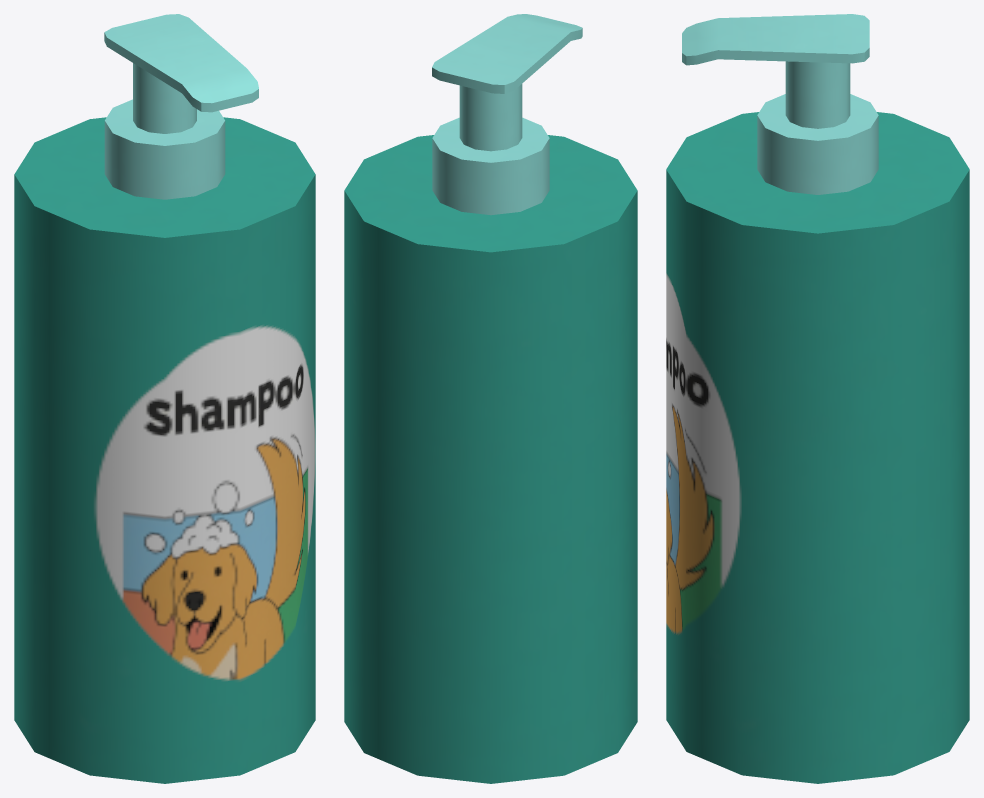
The model's file is shampoo_1.fbx.
3 views of the same model, side by side, from view 1: azimuth 30°, elevation 25°; view 2: azimuth 150°, elevation 25°; view 3: azimuth 270°, elevation 25° (orthographic). The views are drawn at different scales.
Visible parts, largest first — view 1: shampoo_1_part_4, shampoo_1_part_2, shampoo_1_part_3, shampoo_1_part_1; view 2: shampoo_1_part_4, shampoo_1_part_2, shampoo_1_part_3, shampoo_1_part_1; view 3: shampoo_1_part_4, shampoo_1_part_2, shampoo_1_part_3, shampoo_1_part_1.
Part boxes in pixels (x1,y1,x2,y2): shampoo_1_part_4: (14,117,315,783); shampoo_1_part_2: (104,99,225,199); shampoo_1_part_3: (104,14,258,112); shampoo_1_part_1: (133,63,196,133); shampoo_1_part_4: (344,135,637,783); shampoo_1_part_2: (432,117,549,215); shampoo_1_part_3: (432,14,582,93); shampoo_1_part_1: (459,84,522,151); shampoo_1_part_4: (666,112,969,783); shampoo_1_part_2: (757,94,878,194); shampoo_1_part_3: (682,14,869,65); shampoo_1_part_1: (785,61,850,128).
Bounding box in the file's own units: 12.83 × 31.97 × 12.83.
Materials: 1 (1 with a texture image).
